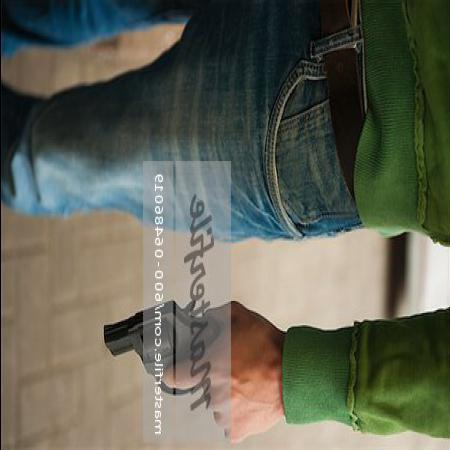Pistol: (101, 298, 239, 398)
